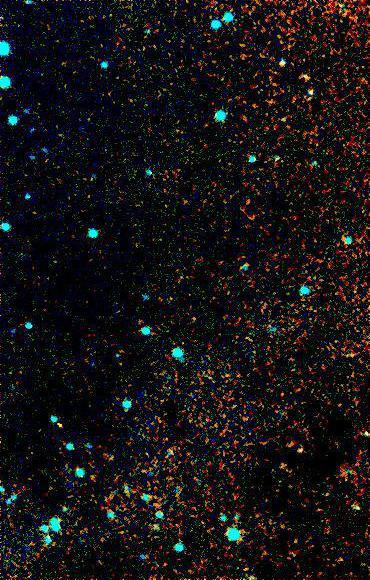star: (198, 429, 228, 459)
